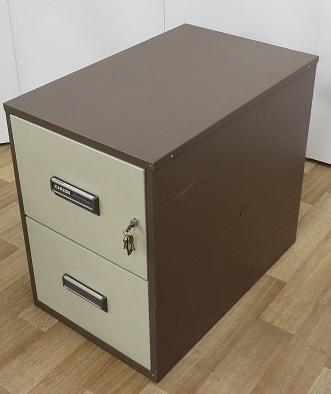cabinet_door: (20, 154, 145, 240), (30, 252, 148, 334)
handle: (47, 174, 103, 220), (59, 272, 110, 314)
